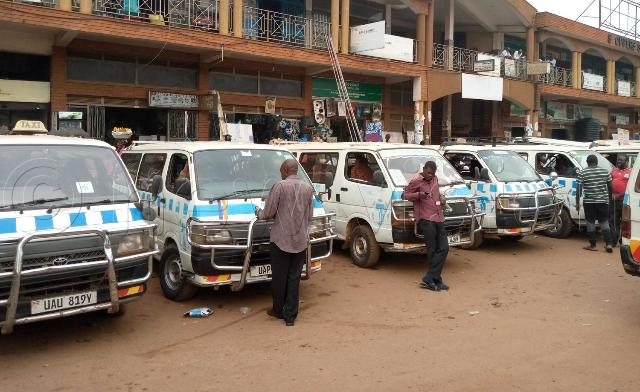van: (0, 121, 160, 336), (159, 138, 334, 303), (333, 142, 480, 266), (474, 144, 560, 240), (542, 145, 626, 240)
